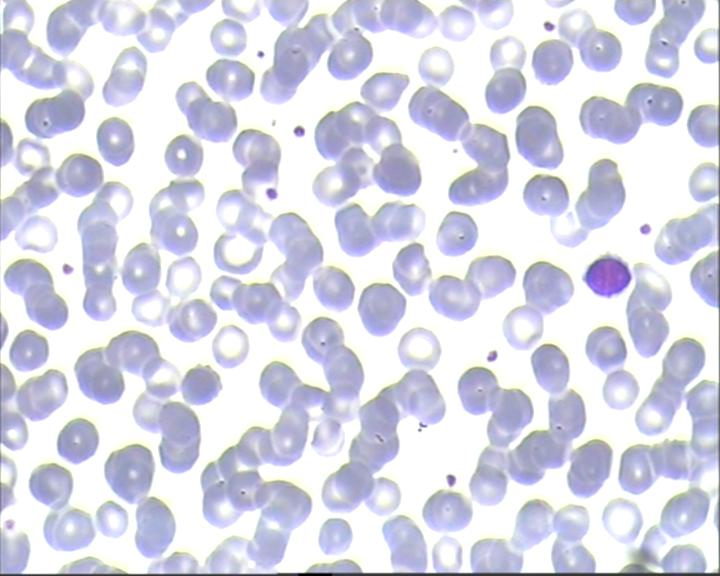lymp: (581, 251, 633, 299)
